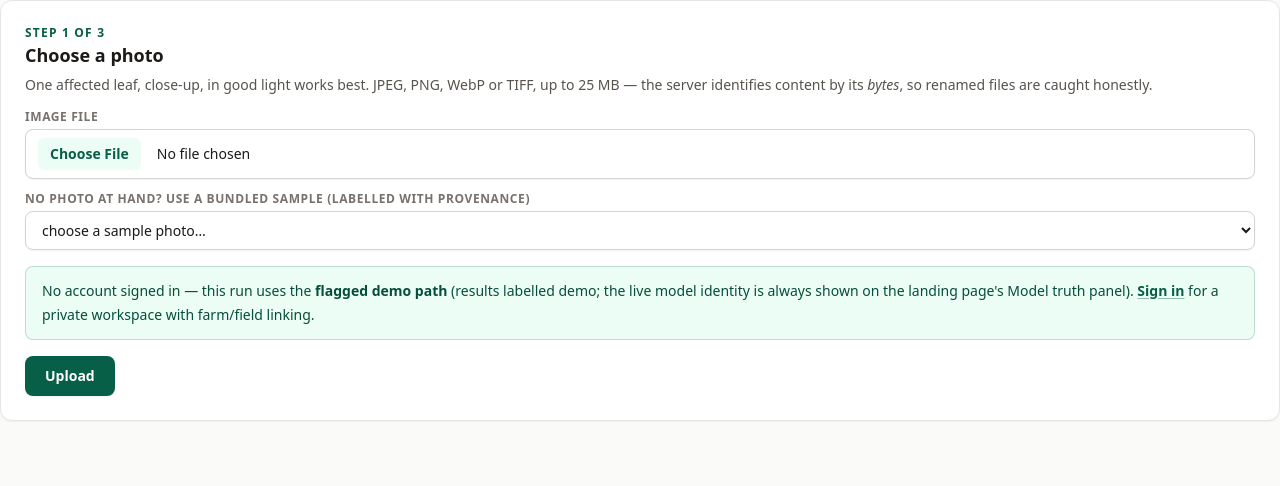
AnalyzeWizard bundled samples › lists the samples and loads a pick through the same File pipeline
Select "Tomato — Early blight (in-domain photo)" in the dropdown with test id "sample-select" at (640, 230), box [25,211,1255,250]
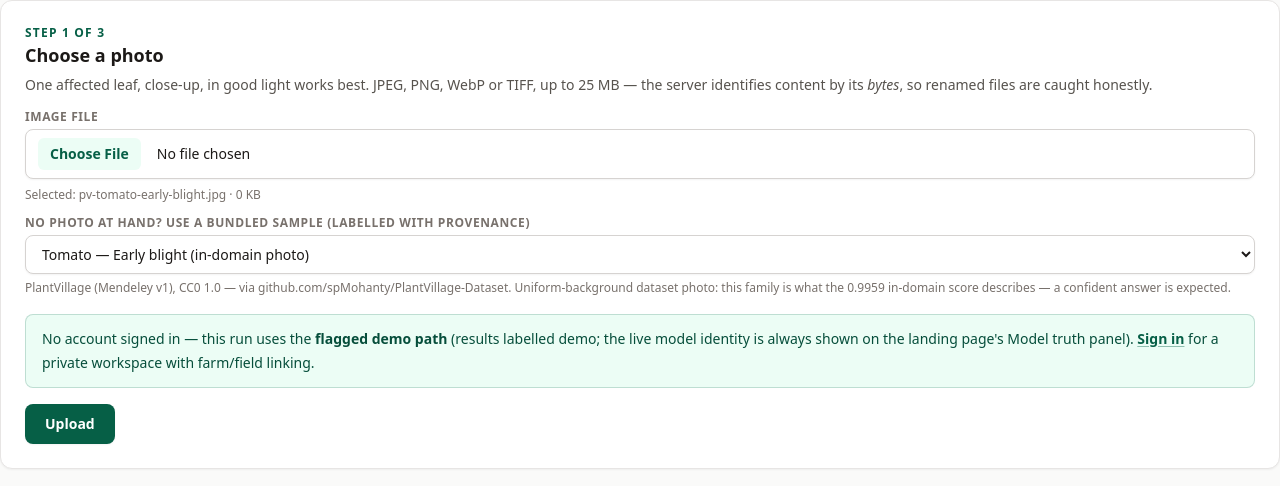
Expected: the text with test id "sample-provenance" shows "PlantVillage (Mendeley v1), CC0 1.0 — via github.com/spMohanty/PlantVillage-Dataset", [25,279,508,296]
Expected: the text with test id "sample-provenance" shows "0.9959", [515,279,1231,296]
